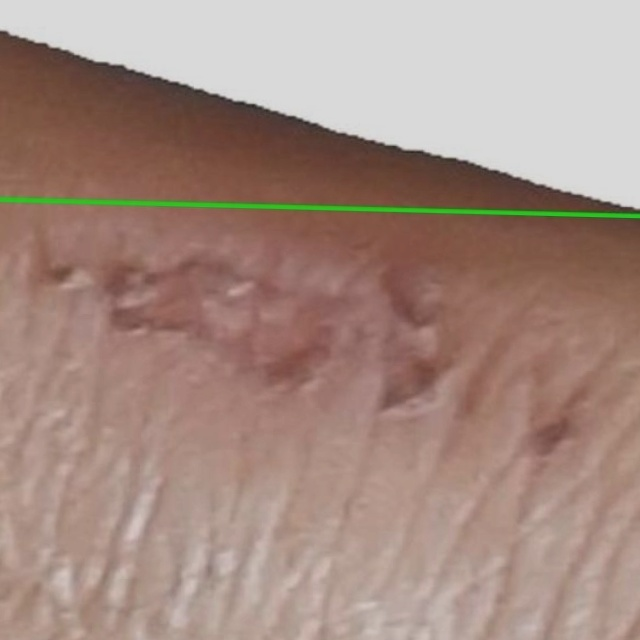Atopic Dermatitis: (0, 0, 639, 214)
